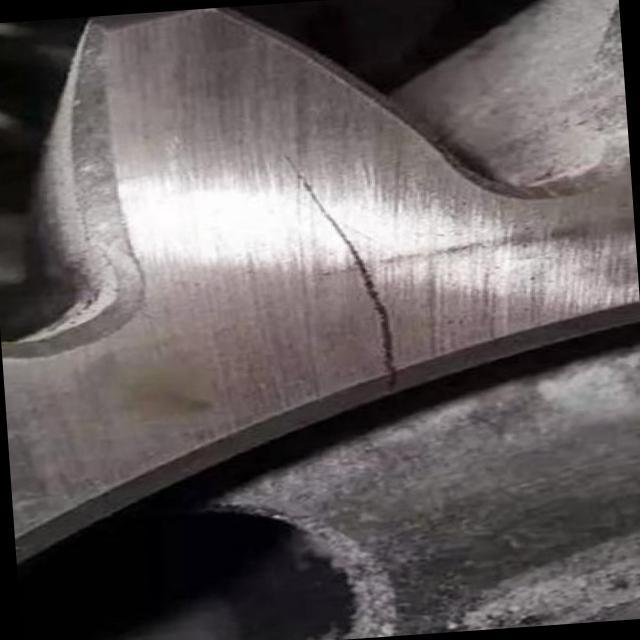defect: (275, 143, 401, 390)
